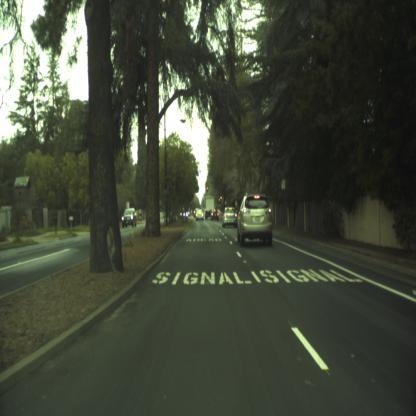Red: (206, 186, 208, 192), (220, 194, 221, 200), (219, 197, 220, 202)
RedLeft: (190, 200, 191, 204)
